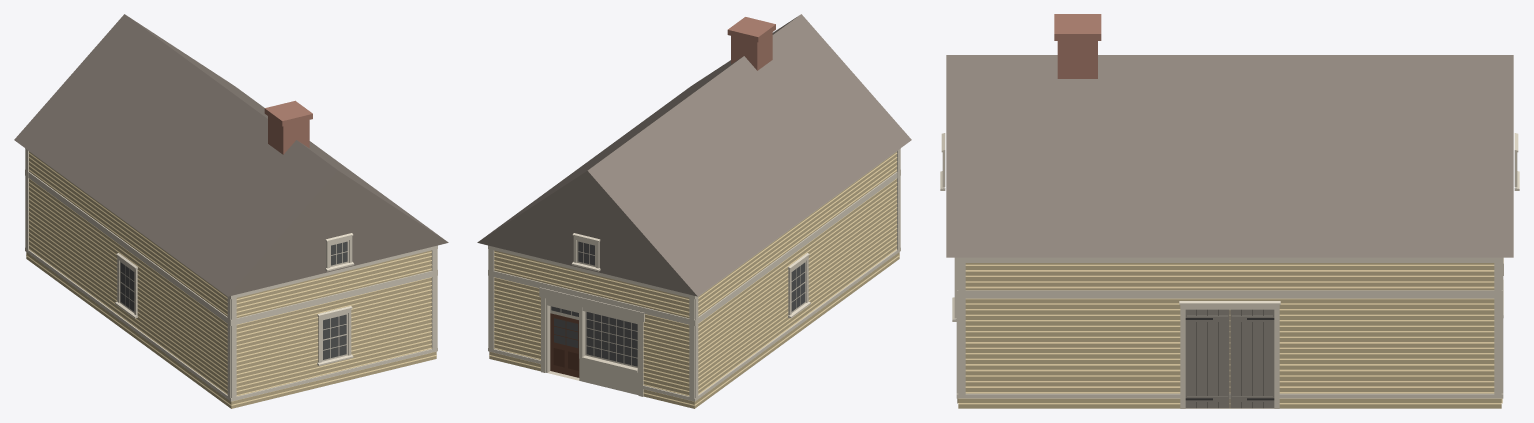
The model's file is recon_1835_core_c2_022__inferred_1835.glb.
The picture shows the model from 3 angles, left to right: view 1: azimuth 30°, elevation 25°; view 2: azimuth 150°, elevation 25°; view 3: azimuth 270°, elevation 25°; orthographic projection. The views are drawn at different scales.
Parts seen in each view (by area): view 1: recon_1835_core_c2_022__inferred_1835; view 2: recon_1835_core_c2_022__inferred_1835; view 3: recon_1835_core_c2_022__inferred_1835.
Boxes of the visible parts, x1,y1,x2,y2 form: recon_1835_core_c2_022__inferred_1835: (14,14,448,408); recon_1835_core_c2_022__inferred_1835: (477,14,911,408); recon_1835_core_c2_022__inferred_1835: (940,14,1519,408).
Size of the model in its own units: 7.03 by 7.3 by 12.06.
